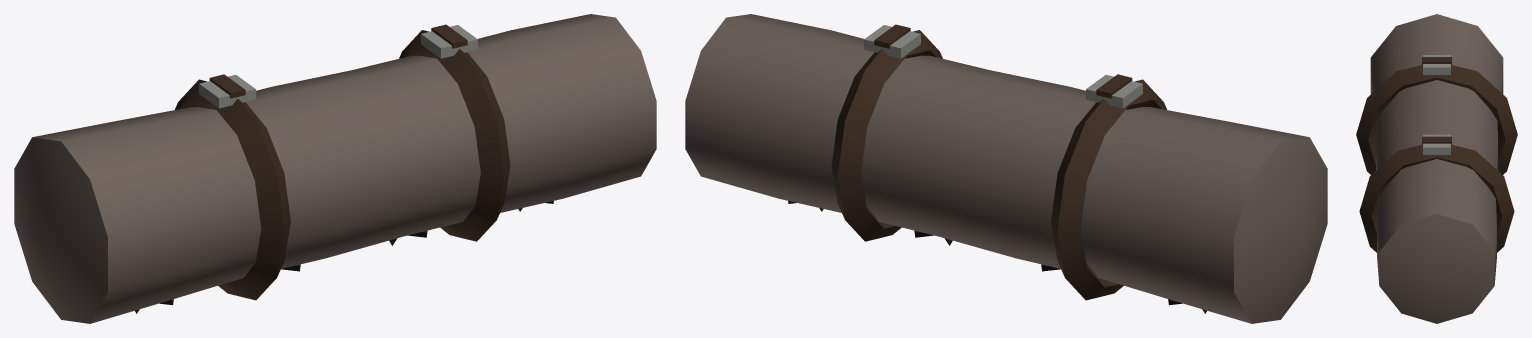
File: butcher_forearm.glb
3 renders of one model, left to right at view 1: azimuth 30°, elevation 25°; view 2: azimuth 150°, elevation 25°; view 3: azimuth 270°, elevation 25°, orthographic. The views are drawn at different scales.
Parts seen in each view (by area): view 1: butcher_forearm; view 2: butcher_forearm; view 3: butcher_forearm.
Part boxes in pixels (bbox=[...]): butcher_forearm: bbox=[14, 14, 656, 323]; butcher_forearm: bbox=[685, 14, 1327, 323]; butcher_forearm: bbox=[1356, 14, 1517, 323].
Size of the model in its own units: 0.4888 by 0.1624 by 0.1604.
